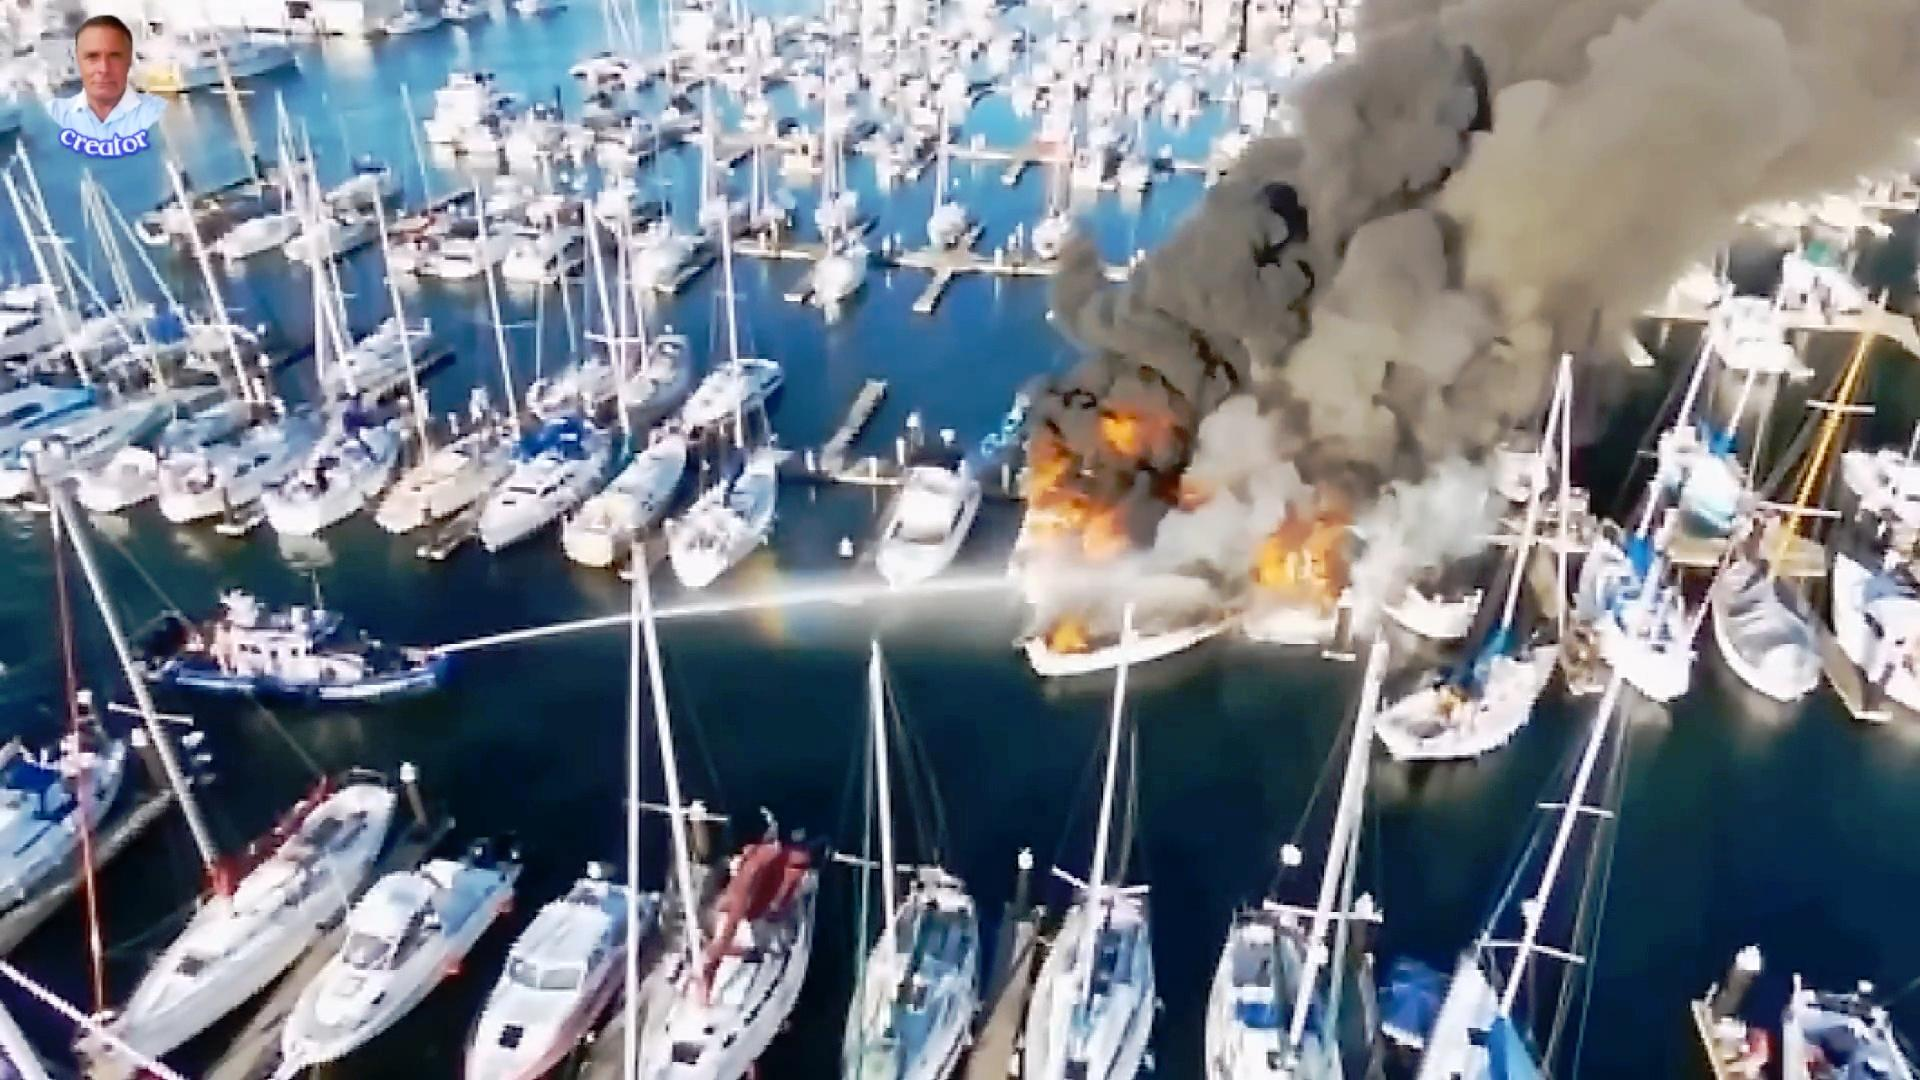fire: (1026, 463, 1127, 556), (1258, 516, 1345, 595)
smoke: (1357, 0, 1598, 301), (1116, 224, 1335, 410)
